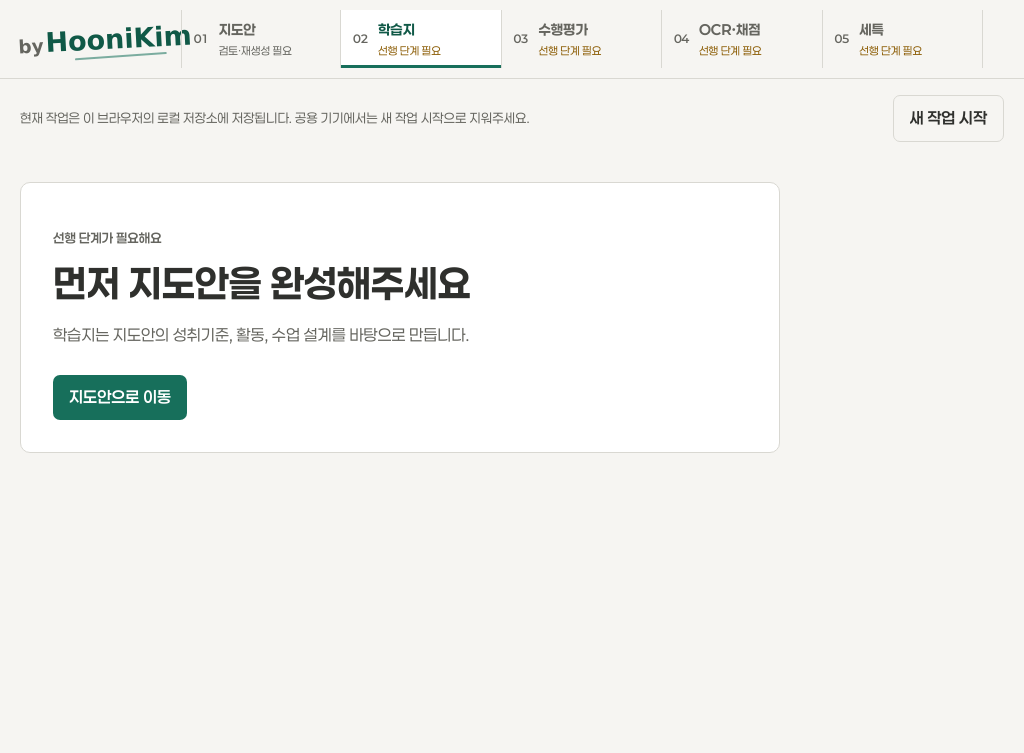
Test: 새 작업 시작을 확인하면 현재 프로젝트와 지도안 초안을 비운다
Check: the text "공용 기기에서는" is shown, box [20,110,381,126]
Click the button "새 작업 시작" at [948, 118], box [892,95,1004,142]
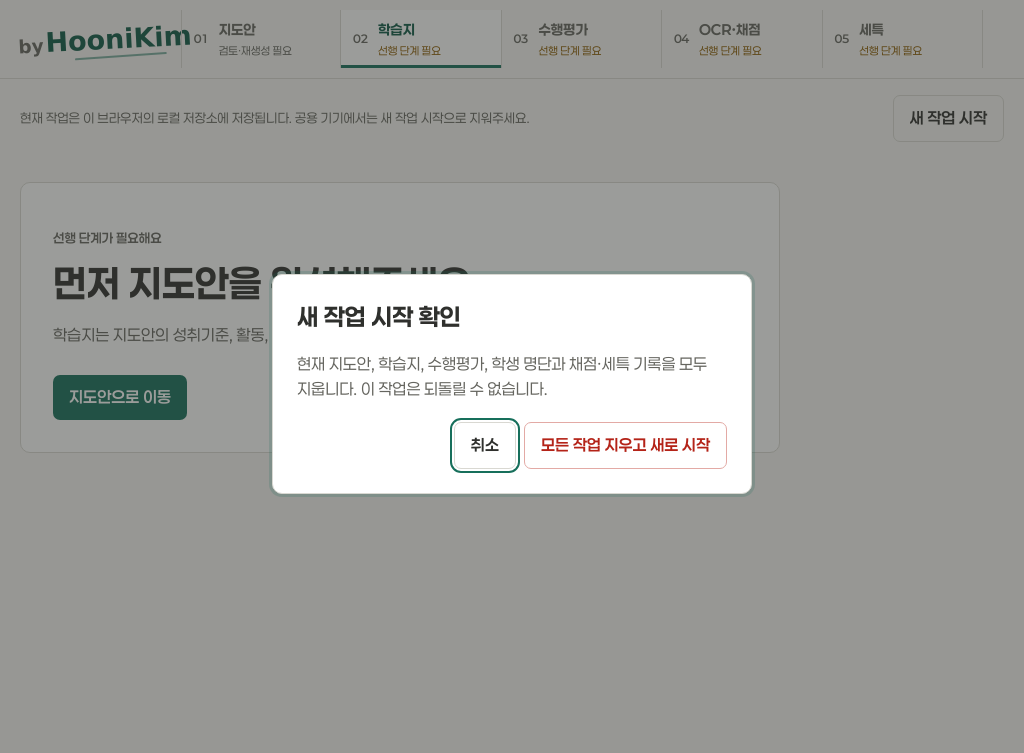
Check: the dialog "새 작업 시작 확인" shows "현재 지도안, 학습지, 수행평가, 학생 명단과 채점·세특 기록을 모두 지웁니다.", box [297,354,707,398]
Click the button "모든 작업 지우고 새로 시작" at [626, 445], box [524,422,727,469]
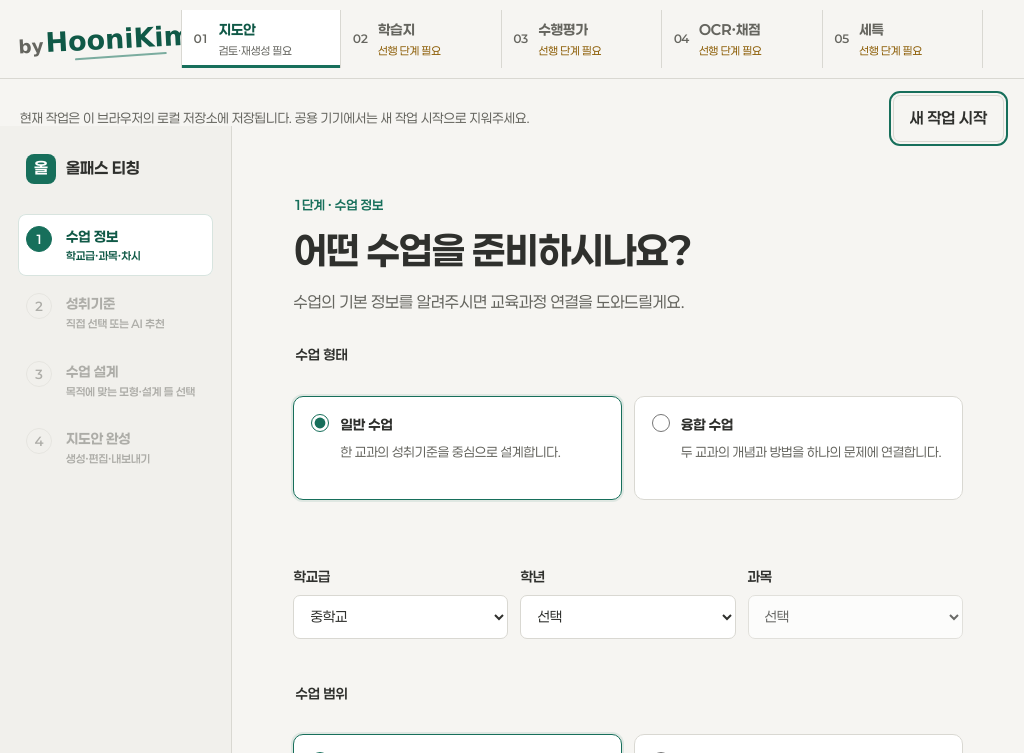
Check: the heading "어떤 수업을 준비하시나요?" is shown, box [293,228,692,273]
